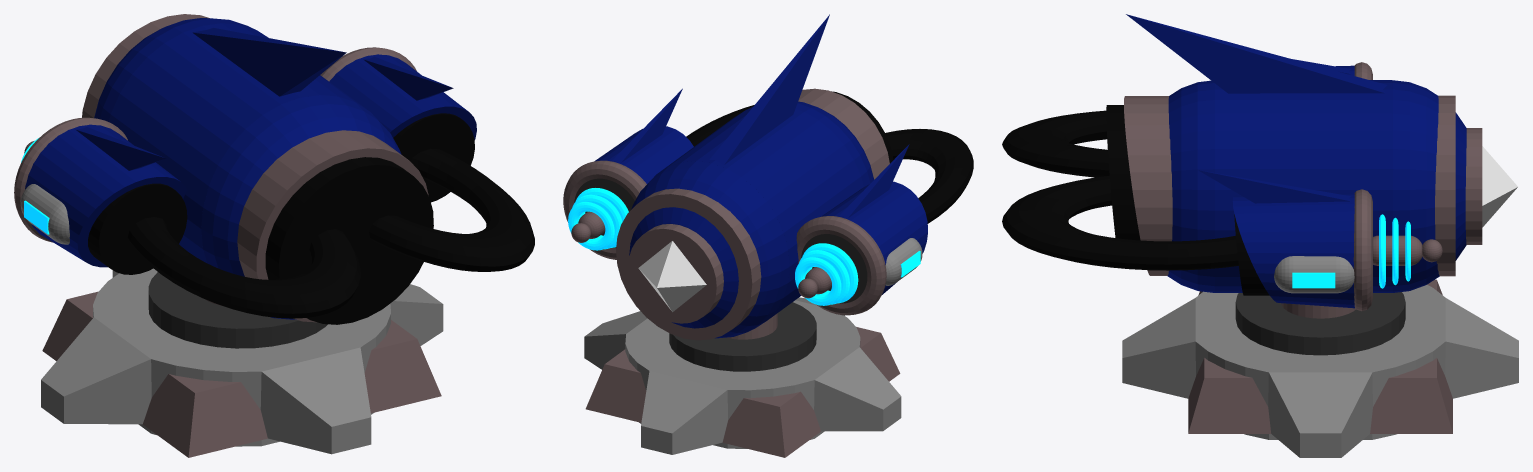
File: WeaponLaserM2.fbx
3 views of the same model, side by side, from view 1: azimuth 30°, elevation 25°; view 2: azimuth 150°, elevation 25°; view 3: azimuth 270°, elevation 25° (orthographic). The views are drawn at different scales.
Parts seen in each view (by area): view 1: Cylinder.009, Cylinder, Cylinder.003; view 2: Cylinder.009, Cylinder, Cylinder.003; view 3: Cylinder.009, Cylinder, Cylinder.003.
Part boxes in pixels (left/top/right/bottom): Cylinder.009: left=14, top=14, right=534, bottom=324; Cylinder: left=41, top=268, right=443, bottom=457; Cylinder.003: left=148, top=272, right=327, bottom=348; Cylinder.009: left=563, top=14, right=973, bottom=340; Cylinder: left=584, top=297, right=901, bottom=457; Cylinder.003: left=669, top=302, right=816, bottom=371; Cylinder.009: left=1002, top=14, right=1517, bottom=318; Cylinder: left=1122, top=279, right=1518, bottom=457; Cylinder.003: left=1235, top=292, right=1405, bottom=355.
Bounding box in the file's own units: 817 × 764 × 962.
